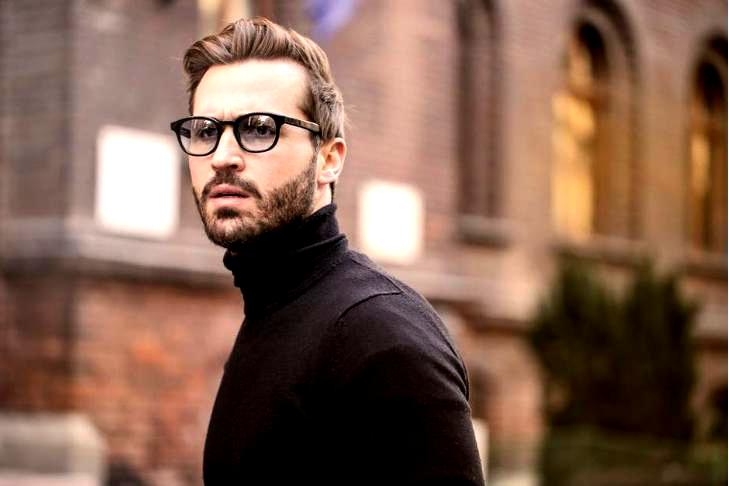face: (189, 61, 303, 244)
